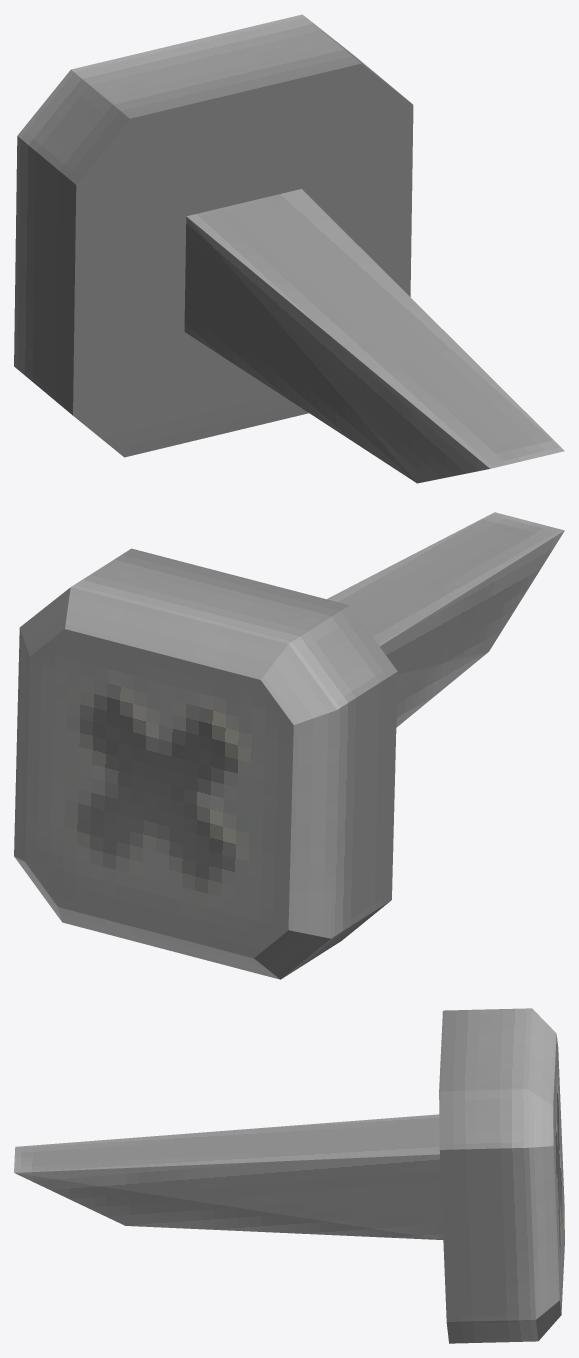
Rendered from Fx_Obj_Screw_00.FBX.
The picture shows the model from 3 angles, top to bottom: view 1: azimuth 30°, elevation 25°; view 2: azimuth 150°, elevation 25°; view 3: azimuth 270°, elevation 25°; orthographic projection. The views are drawn at different scales.
Visible parts, largest first — view 1: Fx_Obj_Screw_00; view 2: Fx_Obj_Screw_00; view 3: Fx_Obj_Screw_00.
Boxes of the visible parts, bbox=[...] form: Fx_Obj_Screw_00: bbox=[14, 14, 564, 483]; Fx_Obj_Screw_00: bbox=[14, 512, 564, 979]; Fx_Obj_Screw_00: bbox=[14, 1008, 564, 1343].
Size of the model in its own units: 5.4 by 5.35 by 10.45.
